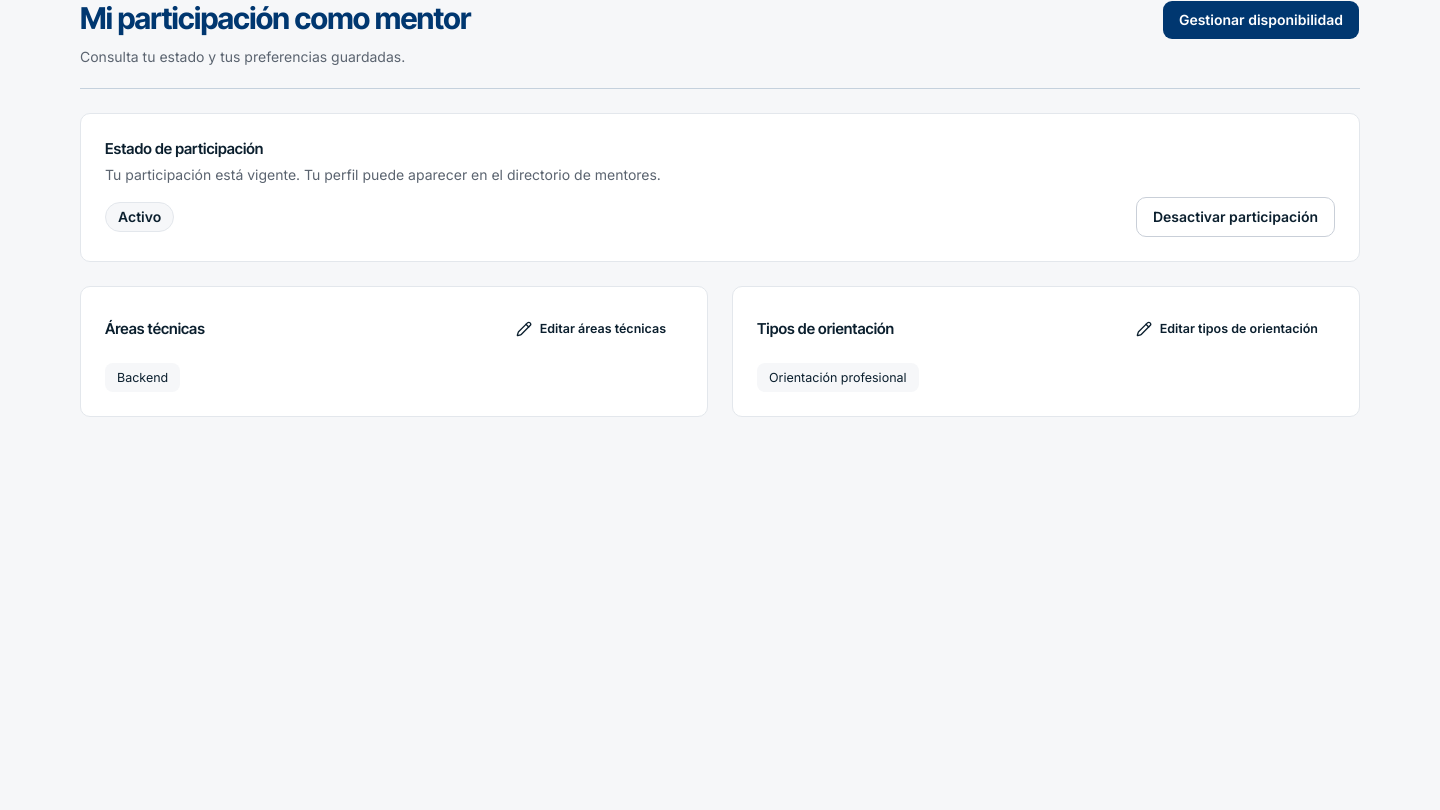
ParticipationView HU-MEN-06 › mantiene abierto el modal y explica las citas futuras cuando falla la salida
Click the button "Desactivar participación" at point(1235, 217), box [1136, 197, 1335, 237]
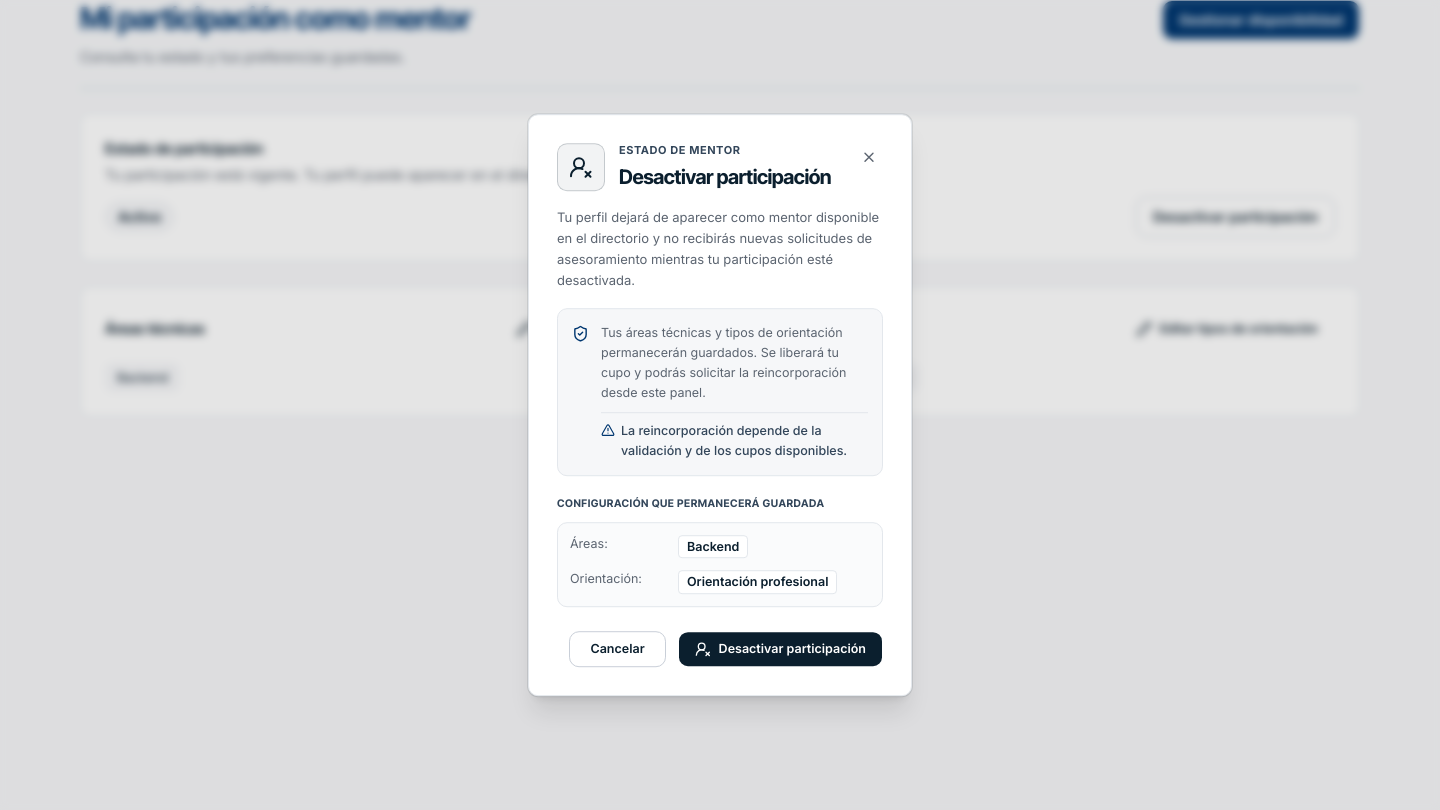
Click the button "Desactivar participación" at point(780, 649), box [678, 631, 883, 667]
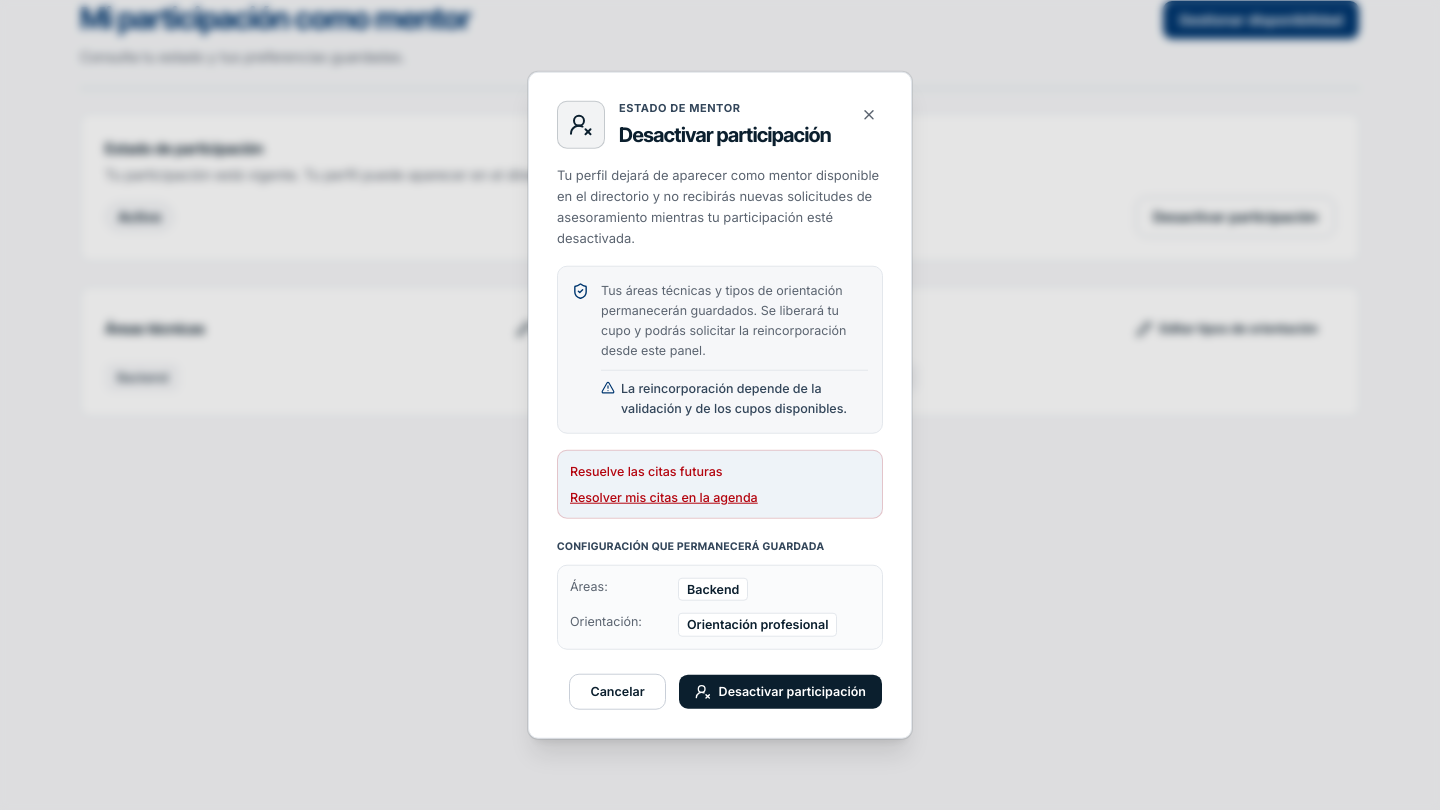
Expected: the text "Activo" is shown, [105, 202, 174, 232]
Result: the message shows "Resuelve las citas futuras" at [570, 464, 722, 479]
Result: the link "Resolver mis citas en la agenda" is shown at [570, 490, 758, 505]
